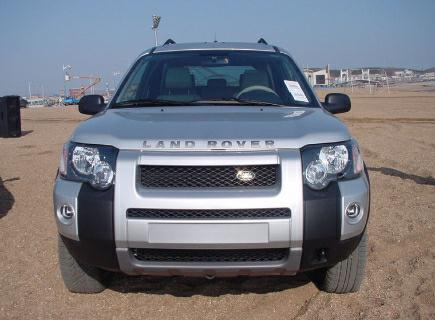路虎-神行者: (50, 39, 376, 300)
